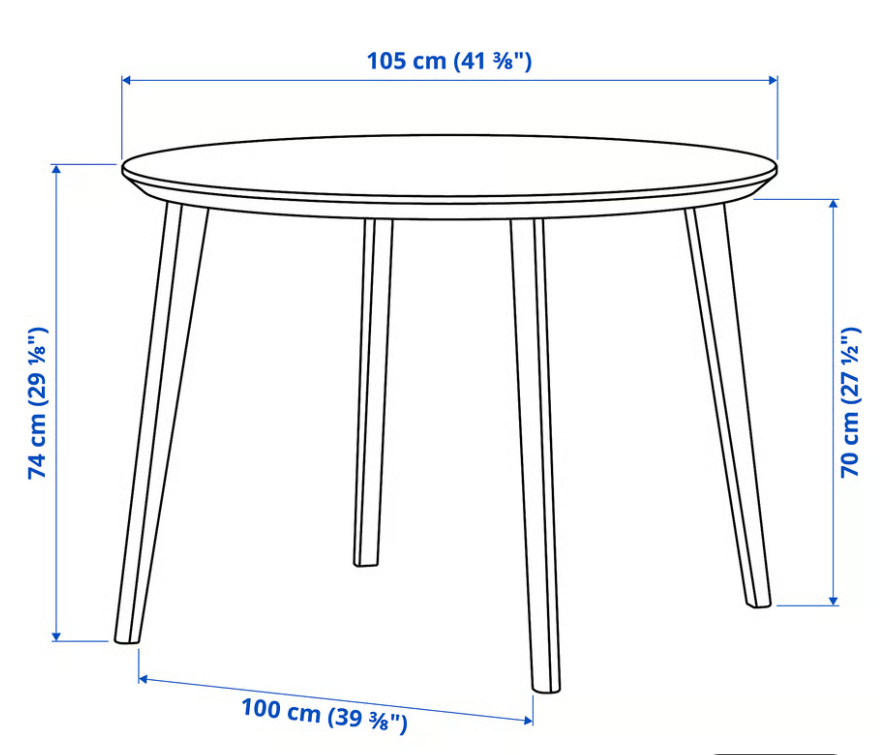table_legs: (113, 198, 212, 647), (683, 200, 775, 610), (506, 215, 563, 696), (351, 216, 397, 570)
table_top: (120, 131, 780, 222)
